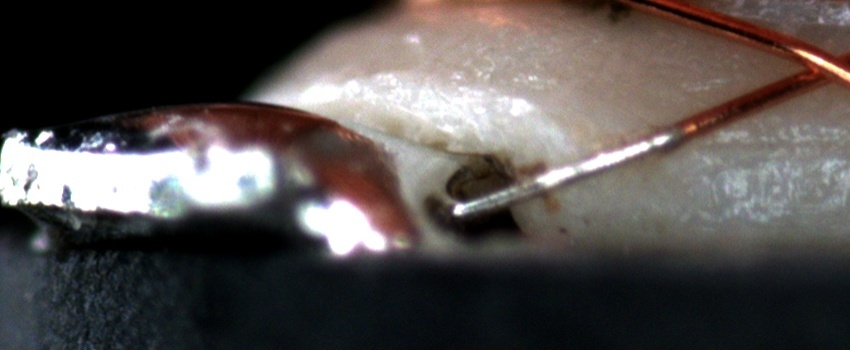CL: (775, 41, 846, 96)
DL: (695, 113, 850, 179)
TS: (454, 128, 682, 218)
